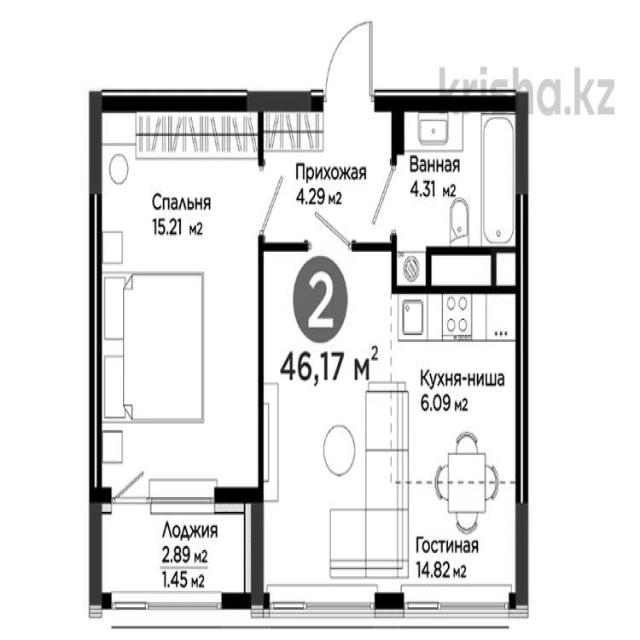balcony: (94, 504, 258, 612)
bathroom: (394, 101, 524, 288)
hallway: (261, 96, 394, 248)
living_room: (94, 98, 260, 498)
studio: (258, 284, 525, 609)
